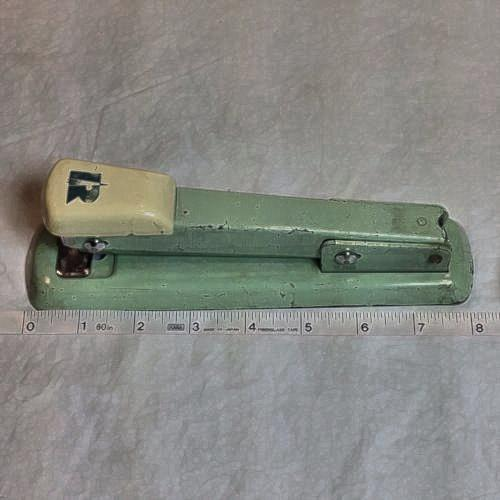stapler: (30, 154, 479, 348)
